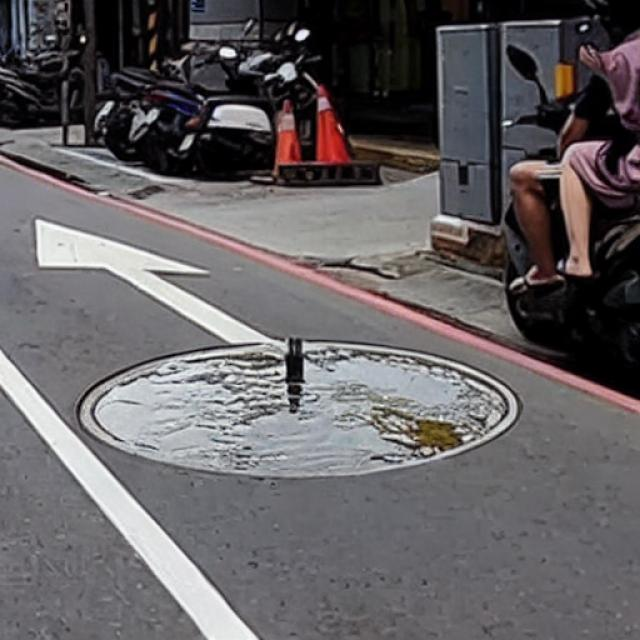puddle: (82, 341, 514, 479)
